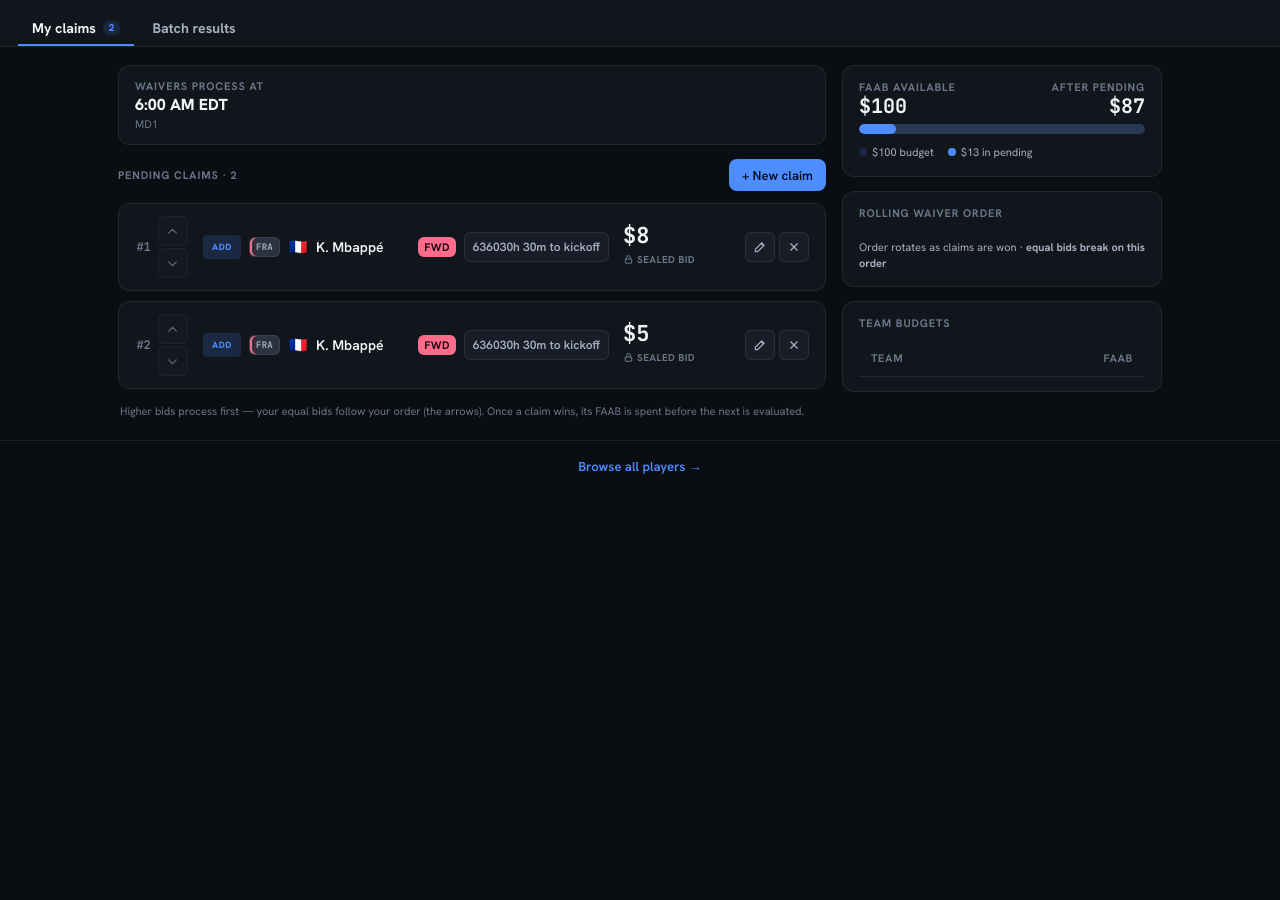
Test: WaiversClient — S2/S3 speculative bids (duplicate + own-bid-visible pool) › (a) a player the viewer already bid on stays in the pool badged 'Your bid ×2', both claims listed
expect the text "Pending claims · 2" is shown: met, box left=118, top=168, right=238, bottom=182
pool row still visible (claims-agnostic) with the "Your bid ×2" indicator
Click the button "+ New claim". click: {"x": 777, "y": 175}
box: left=729, top=159, right=826, bottom=191
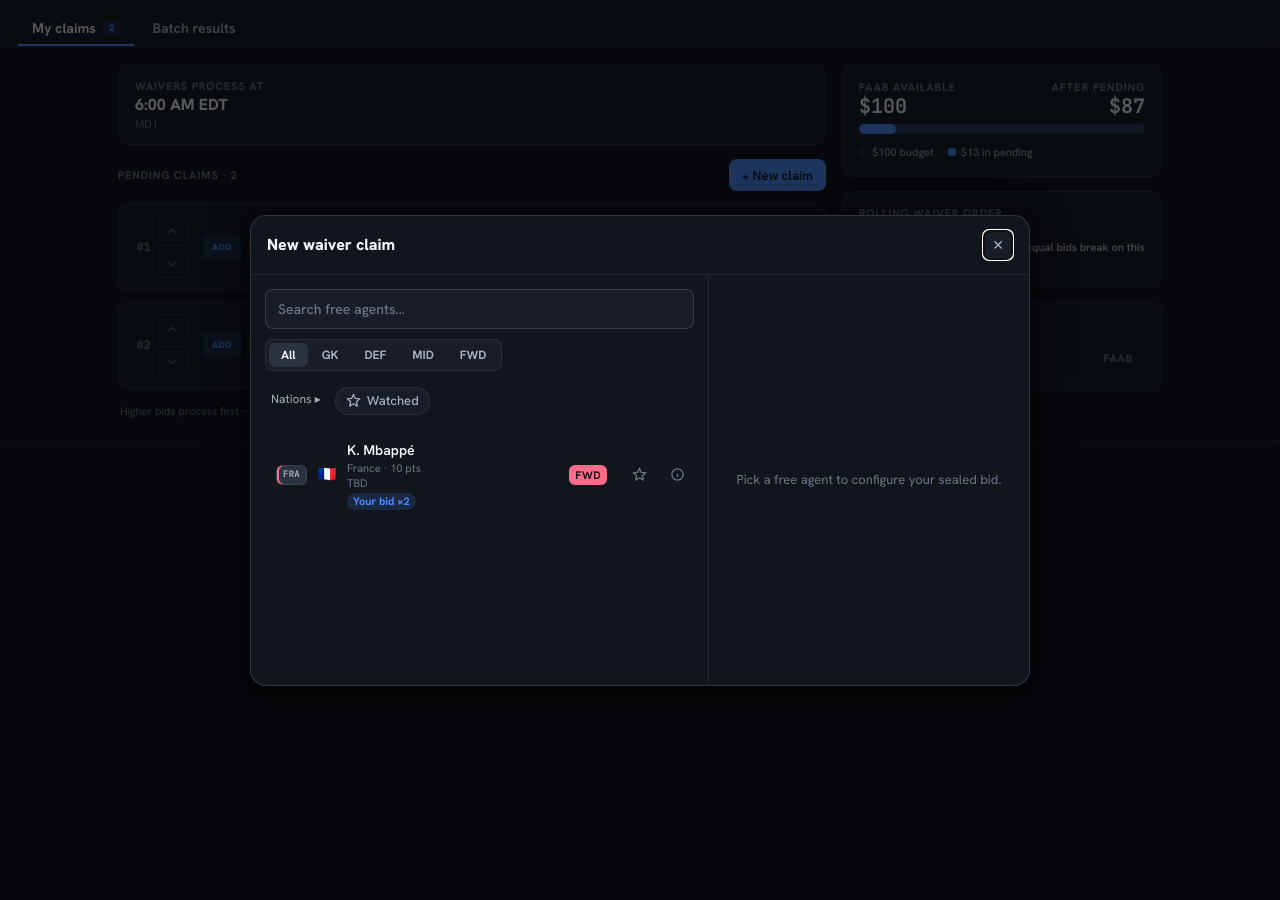
expect the text "Your bid ×2" is shown: met, box left=347, top=492, right=416, bottom=510
